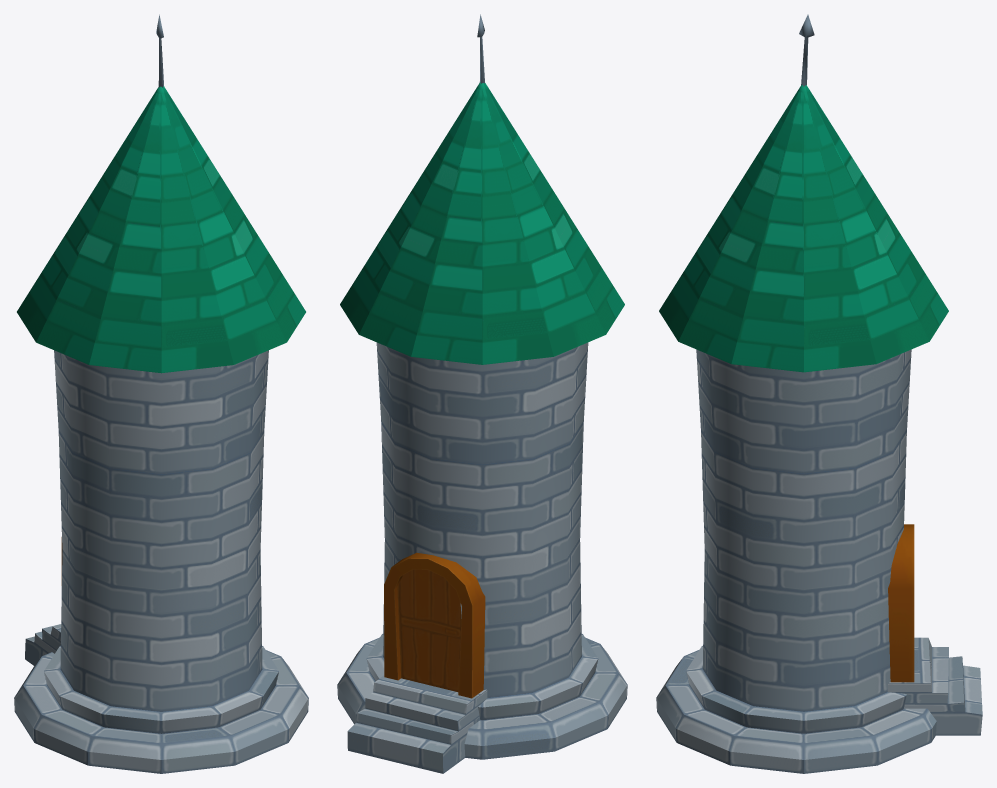
The model's file is HOS0110021.fbx.
3 renders of one model, left to right at view 1: azimuth 30°, elevation 25°; view 2: azimuth 150°, elevation 25°; view 3: azimuth 270°, elevation 25°, orthographic.
Parts seen in each view (by area): view 1: smHOS0110021; view 2: smHOS0110021; view 3: smHOS0110021.
Boxes of the visible parts, left/top/right/bottom form: smHOS0110021: left=14, top=14, right=308, bottom=773; smHOS0110021: left=337, top=14, right=627, bottom=773; smHOS0110021: left=656, top=14, right=982, bottom=773.
Bounding box in the file's own units: 462 × 1205 × 511.
1 material, 1 textured.
